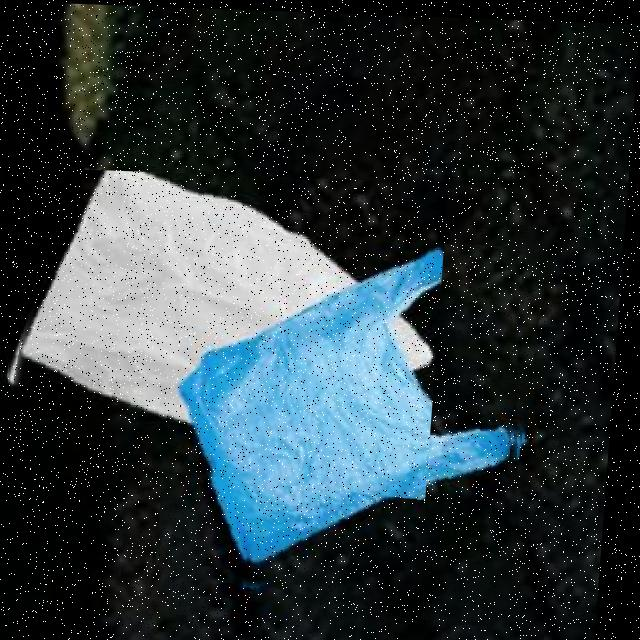litter: (161, 232, 545, 616), (5, 166, 450, 495)
